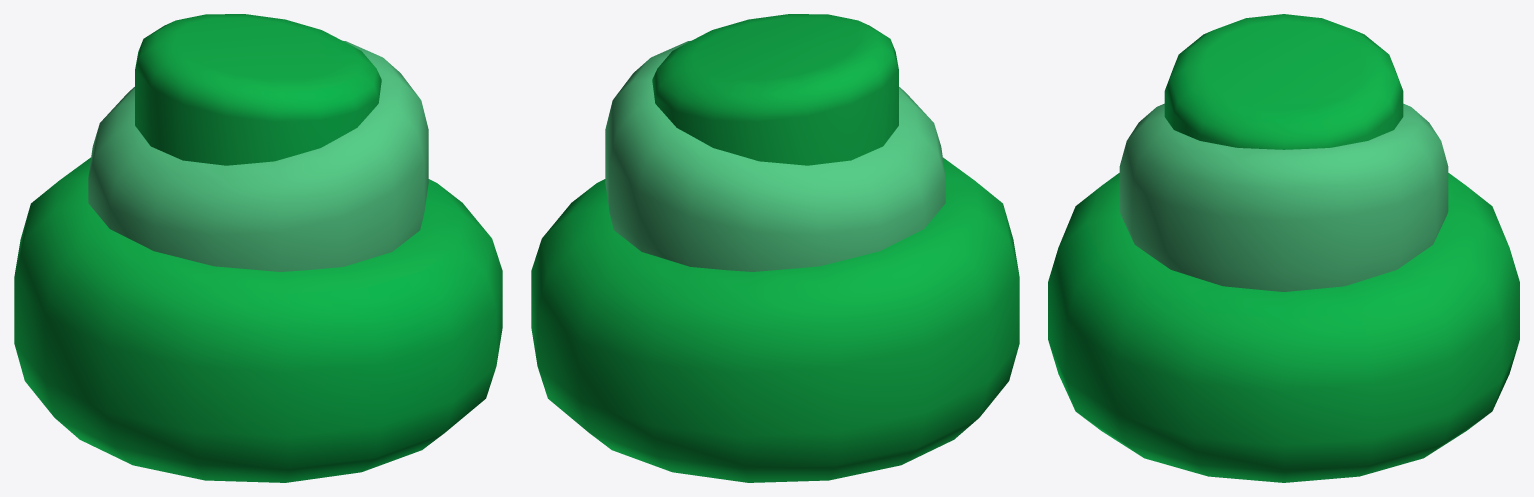
The model's file is Town_4_Bush_1.glb.
3 views of the same model, side by side, from view 1: azimuth 30°, elevation 25°; view 2: azimuth 150°, elevation 25°; view 3: azimuth 270°, elevation 25° (orthographic). The views are drawn at different scales.
Visible parts, largest first — view 1: Town_4_Bush_1; view 2: Town_4_Bush_1; view 3: Town_4_Bush_1.
Part boxes in pixels (bbox=[...]): Town_4_Bush_1: bbox=[14, 14, 502, 482]; Town_4_Bush_1: bbox=[531, 14, 1019, 482]; Town_4_Bush_1: bbox=[1048, 14, 1519, 482].
Bounding box in the file's own units: 1.72 × 1.42 × 1.72.
1 material, 1 textured.
